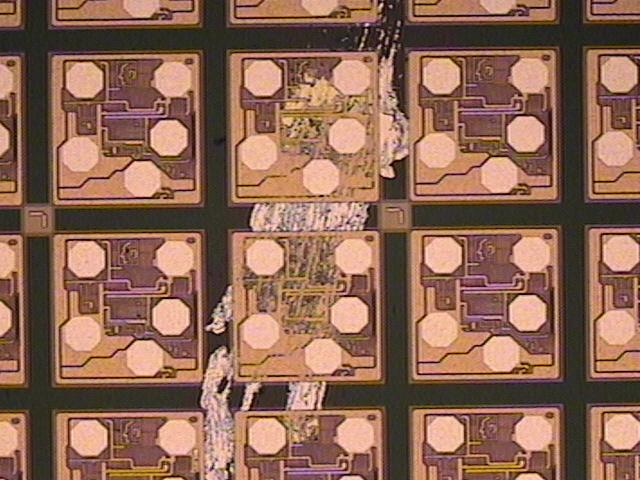BLOCK ETCH: (196, 1, 418, 479)
